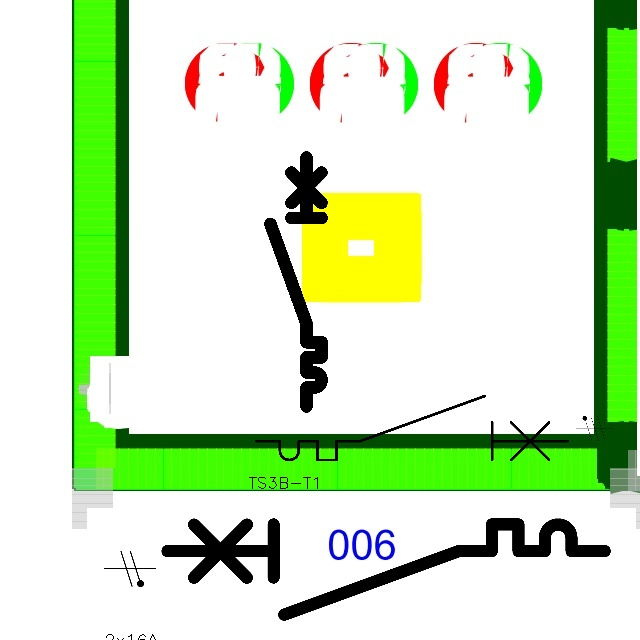interruptor_termomagnetico: (156, 513, 616, 625), (248, 388, 575, 468), (264, 151, 328, 413)
